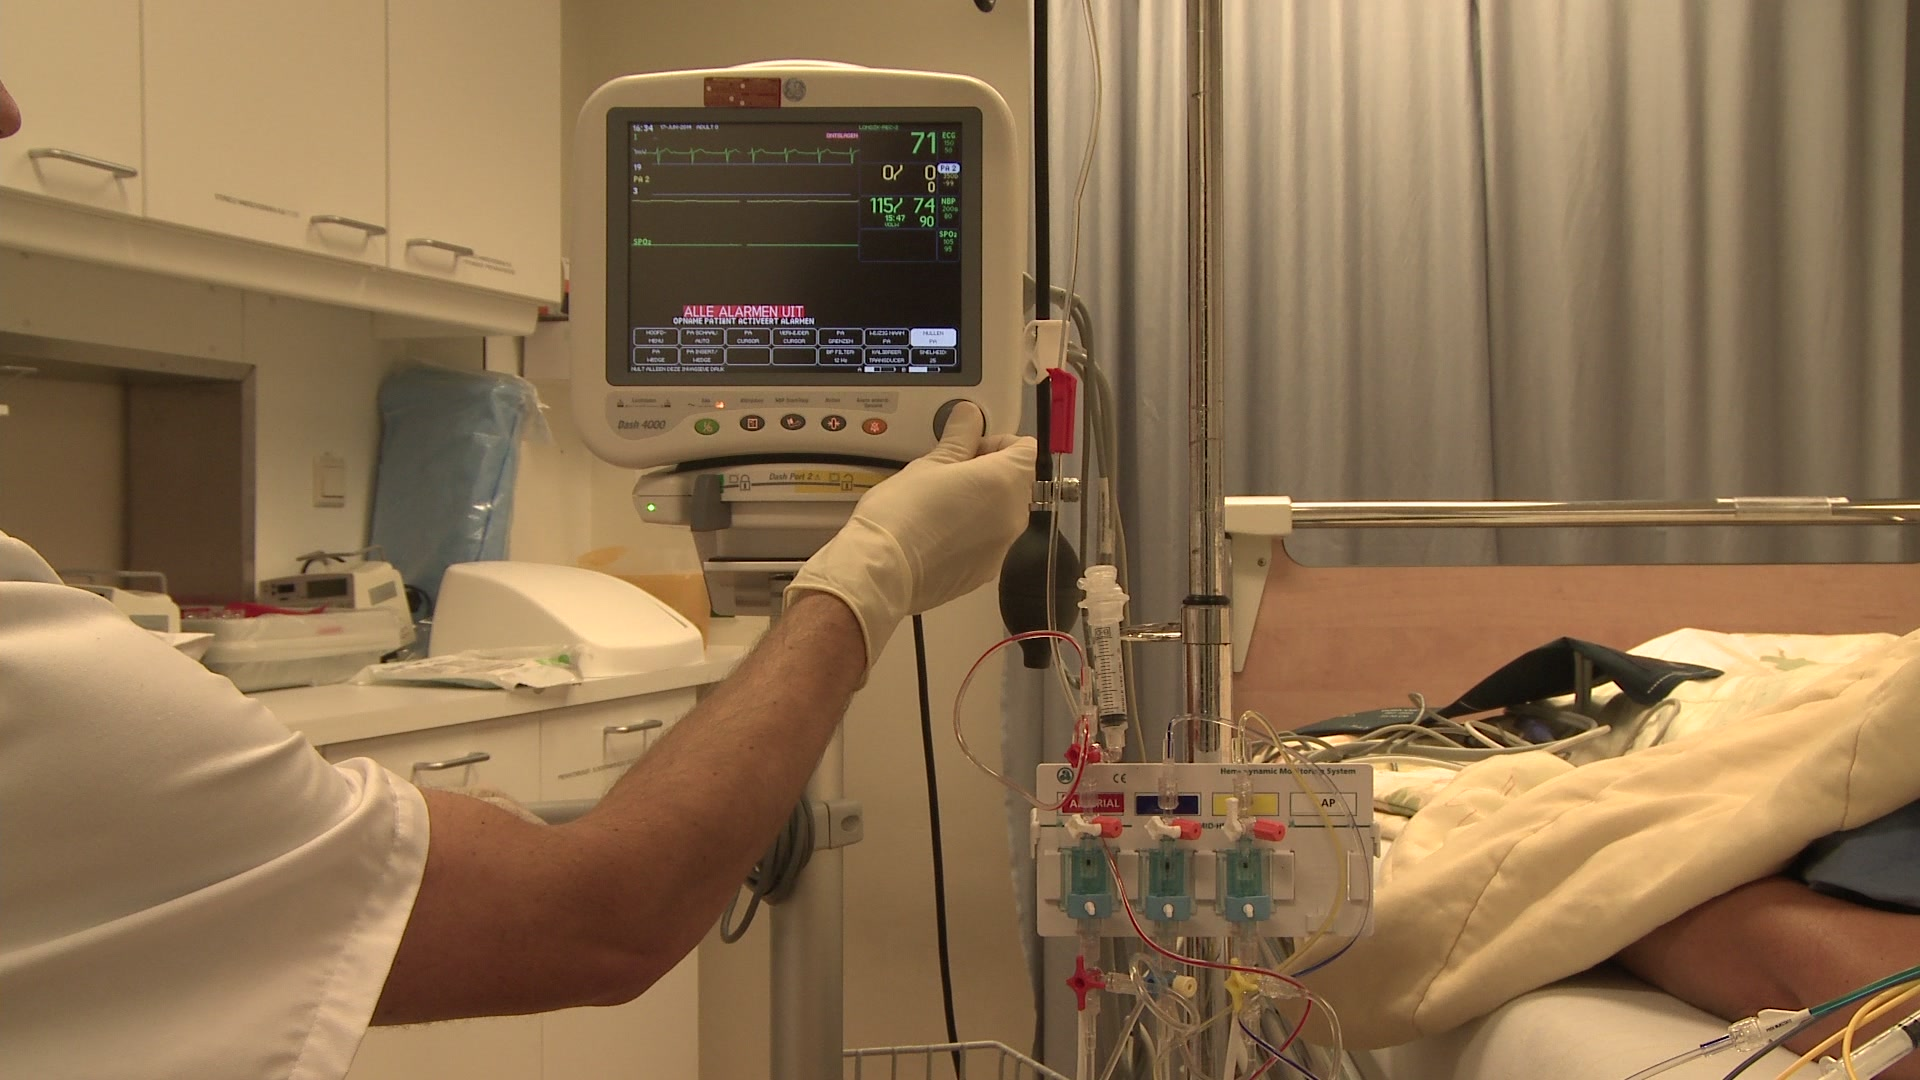bedside_monitor: (571, 58, 1032, 465)
cabinet: (1, 1, 576, 306)
countertop: (30, 602, 745, 742)
curtain: (1076, 1, 1920, 560)
foot_board: (1209, 505, 1896, 746)
handle: (29, 145, 140, 180), (307, 213, 388, 238), (411, 749, 492, 771), (405, 235, 474, 260), (602, 718, 661, 737)
hospital_bed: (1183, 497, 1920, 1080)
infusion_pump: (1028, 753, 1377, 941)
iv_pole: (1175, 1, 1230, 768)
staff: (1, 74, 1038, 1080)
